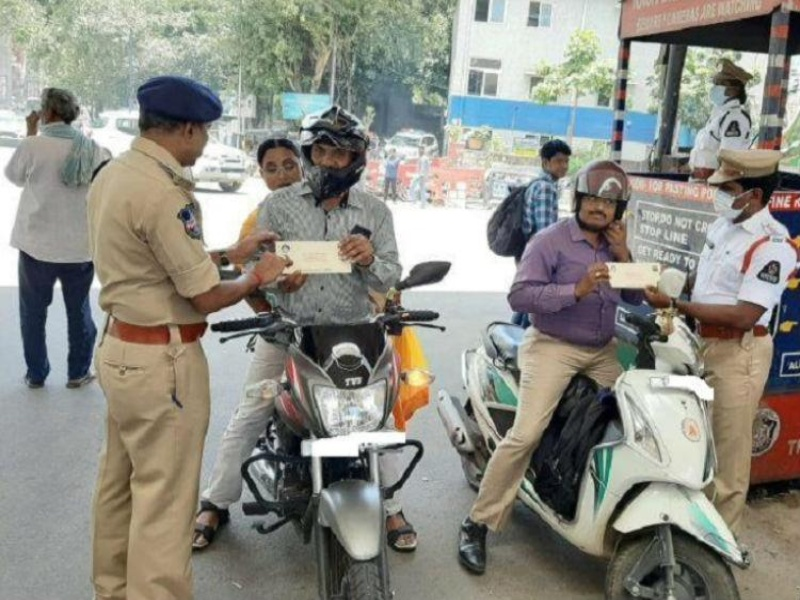helmet: (294, 99, 372, 202), (562, 155, 641, 234)
